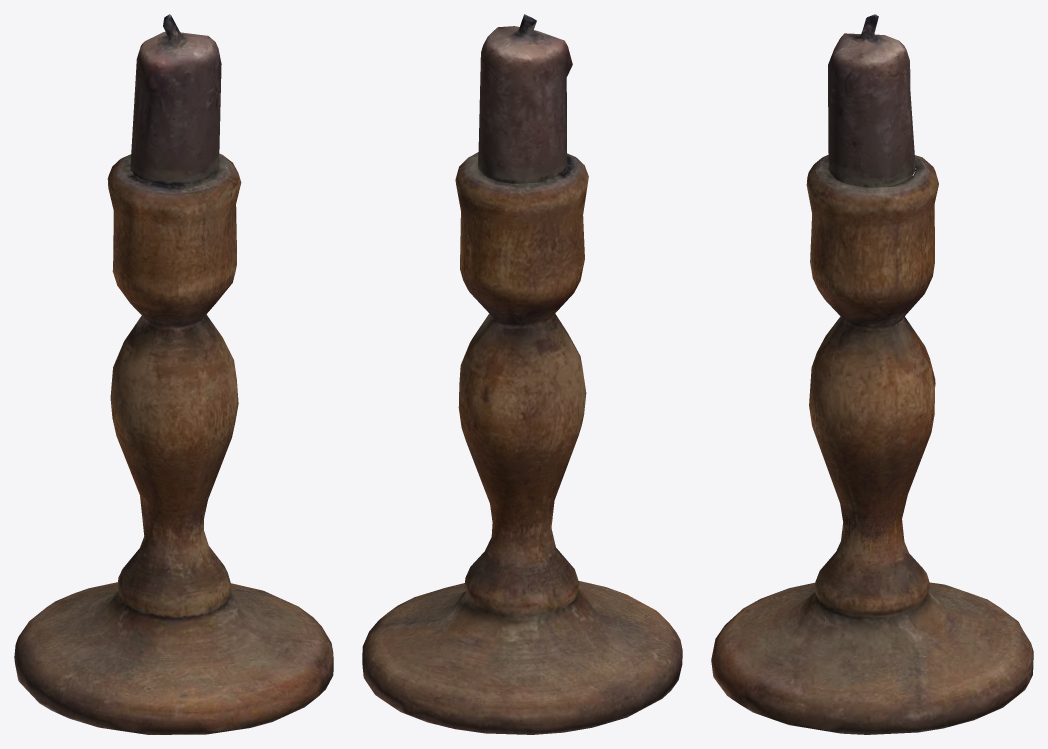
File: wooden_candlestick.glb
3 renders of one model, left to right at view 1: azimuth 30°, elevation 25°; view 2: azimuth 150°, elevation 25°; view 3: azimuth 270°, elevation 25°, orthographic.
Parts seen in each view (by area): view 1: wooden_candlestick; view 2: wooden_candlestick; view 3: wooden_candlestick.
Boxes of the visible parts, x1,y1,x2,y2 form: wooden_candlestick: (14, 14, 333, 734); wooden_candlestick: (362, 14, 682, 734); wooden_candlestick: (711, 14, 1033, 734).
Size of the model in its own units: 0.0968 by 0.2193 by 0.0983.
Materials: 1 (1 with a texture image).
